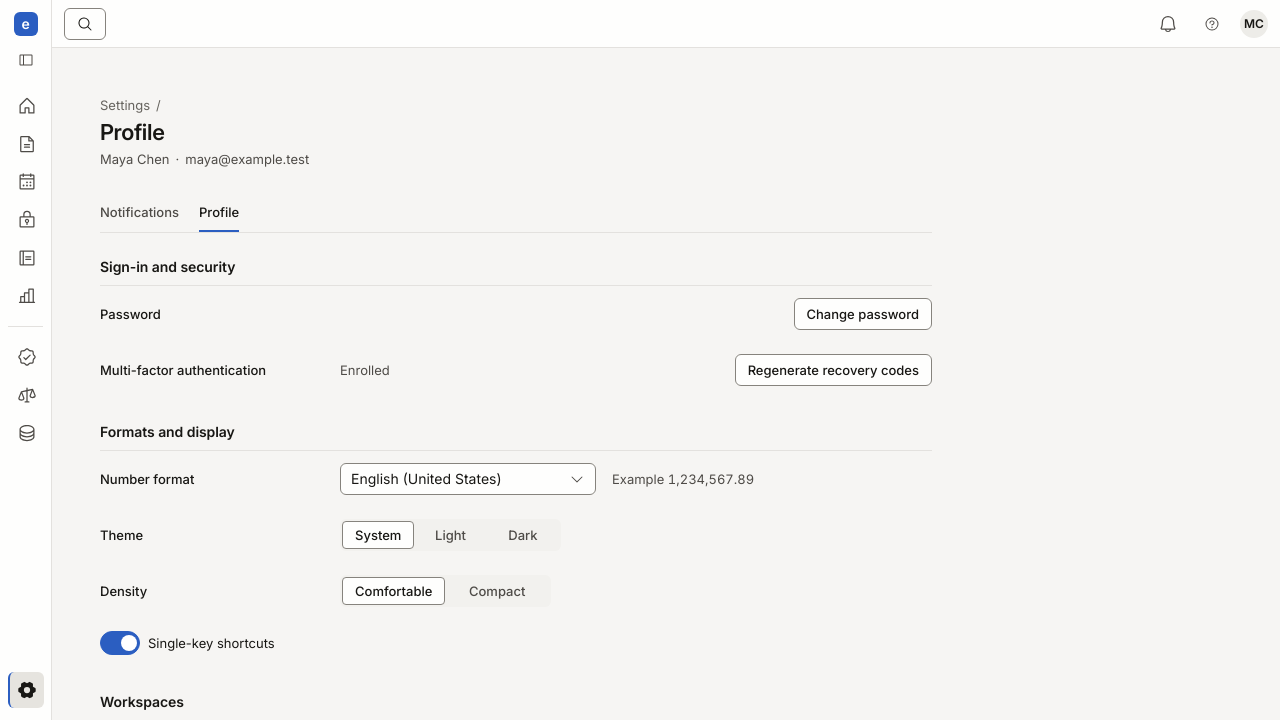
Test case: SF-15:profile and REQ-UX-022 › Change password in Sign-in and security opens SF-22:password-change (SCREENS_B rev 1.8)
Expected: the text "Password" is shown, [100,306,161,322]
Click the link "Change password": (863, 314) [794,298,932,330]
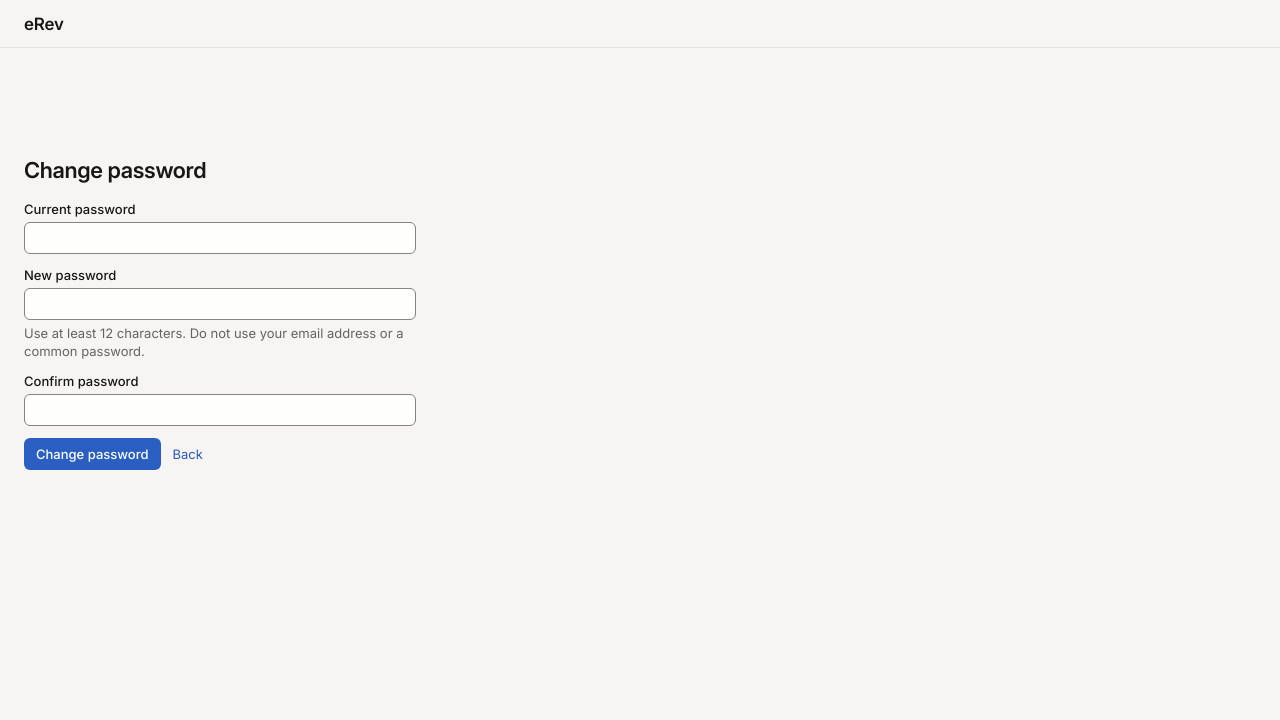
Expected: the heading "Change password" is shown, [24,157,206,183]
